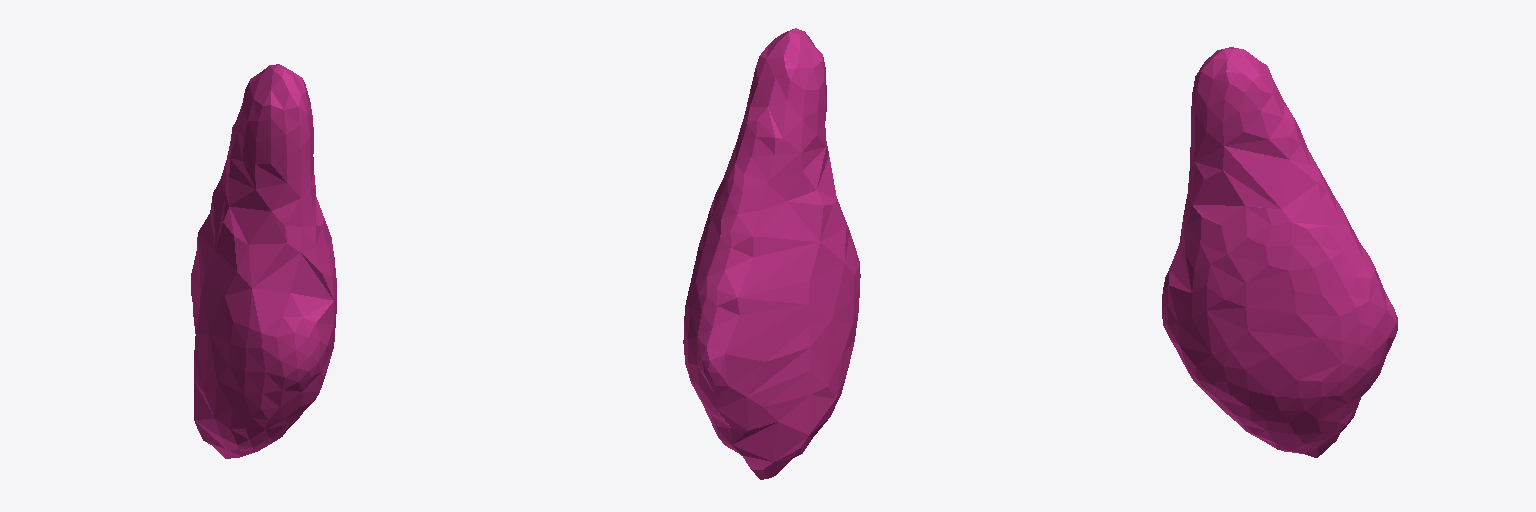
File: Model_10420_LH__Occulomotor_nucleus_(3N).obj
The picture shows the model from 3 angles: view 1: azimuth 30°, elevation 25°; view 2: azimuth 150°, elevation 25°; view 3: azimuth 270°, elevation 25°; orthographic projection.
Bounding box in the file's own units: 0.5009 × 1.75 × 0.904.